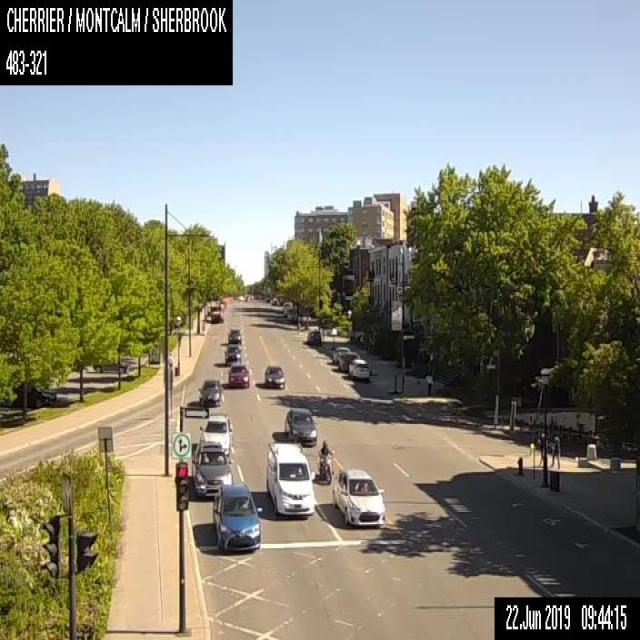pedestrian: (549, 434, 560, 469), (536, 431, 544, 466), (424, 373, 432, 396)
vehicle: (266, 441, 314, 515), (212, 484, 262, 550), (332, 468, 385, 525), (191, 441, 233, 496), (199, 412, 233, 455), (284, 405, 317, 446), (4, 383, 55, 408), (316, 439, 333, 482), (198, 378, 222, 406), (262, 363, 284, 389), (348, 358, 370, 380), (92, 359, 128, 372), (228, 364, 248, 387), (338, 350, 358, 371), (223, 343, 241, 364), (331, 345, 350, 364), (306, 328, 321, 344), (227, 327, 241, 343), (210, 304, 223, 321), (283, 301, 292, 315), (286, 308, 294, 319)
